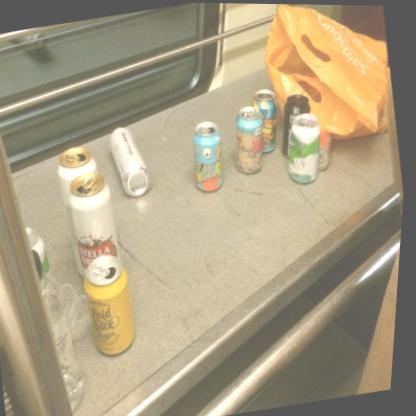Metal: (71, 172, 124, 276), (59, 147, 100, 276), (88, 254, 139, 354), (111, 127, 152, 196), (291, 112, 322, 182), (195, 121, 224, 191), (283, 93, 312, 157), (237, 105, 264, 172), (253, 88, 279, 151), (28, 226, 55, 274), (319, 129, 334, 169), (96, 261, 113, 275), (85, 174, 98, 188), (304, 113, 314, 124), (68, 154, 82, 160), (248, 108, 257, 115), (201, 126, 212, 131), (320, 152, 326, 161)
Plastic: (264, 3, 391, 138), (35, 248, 89, 411)
